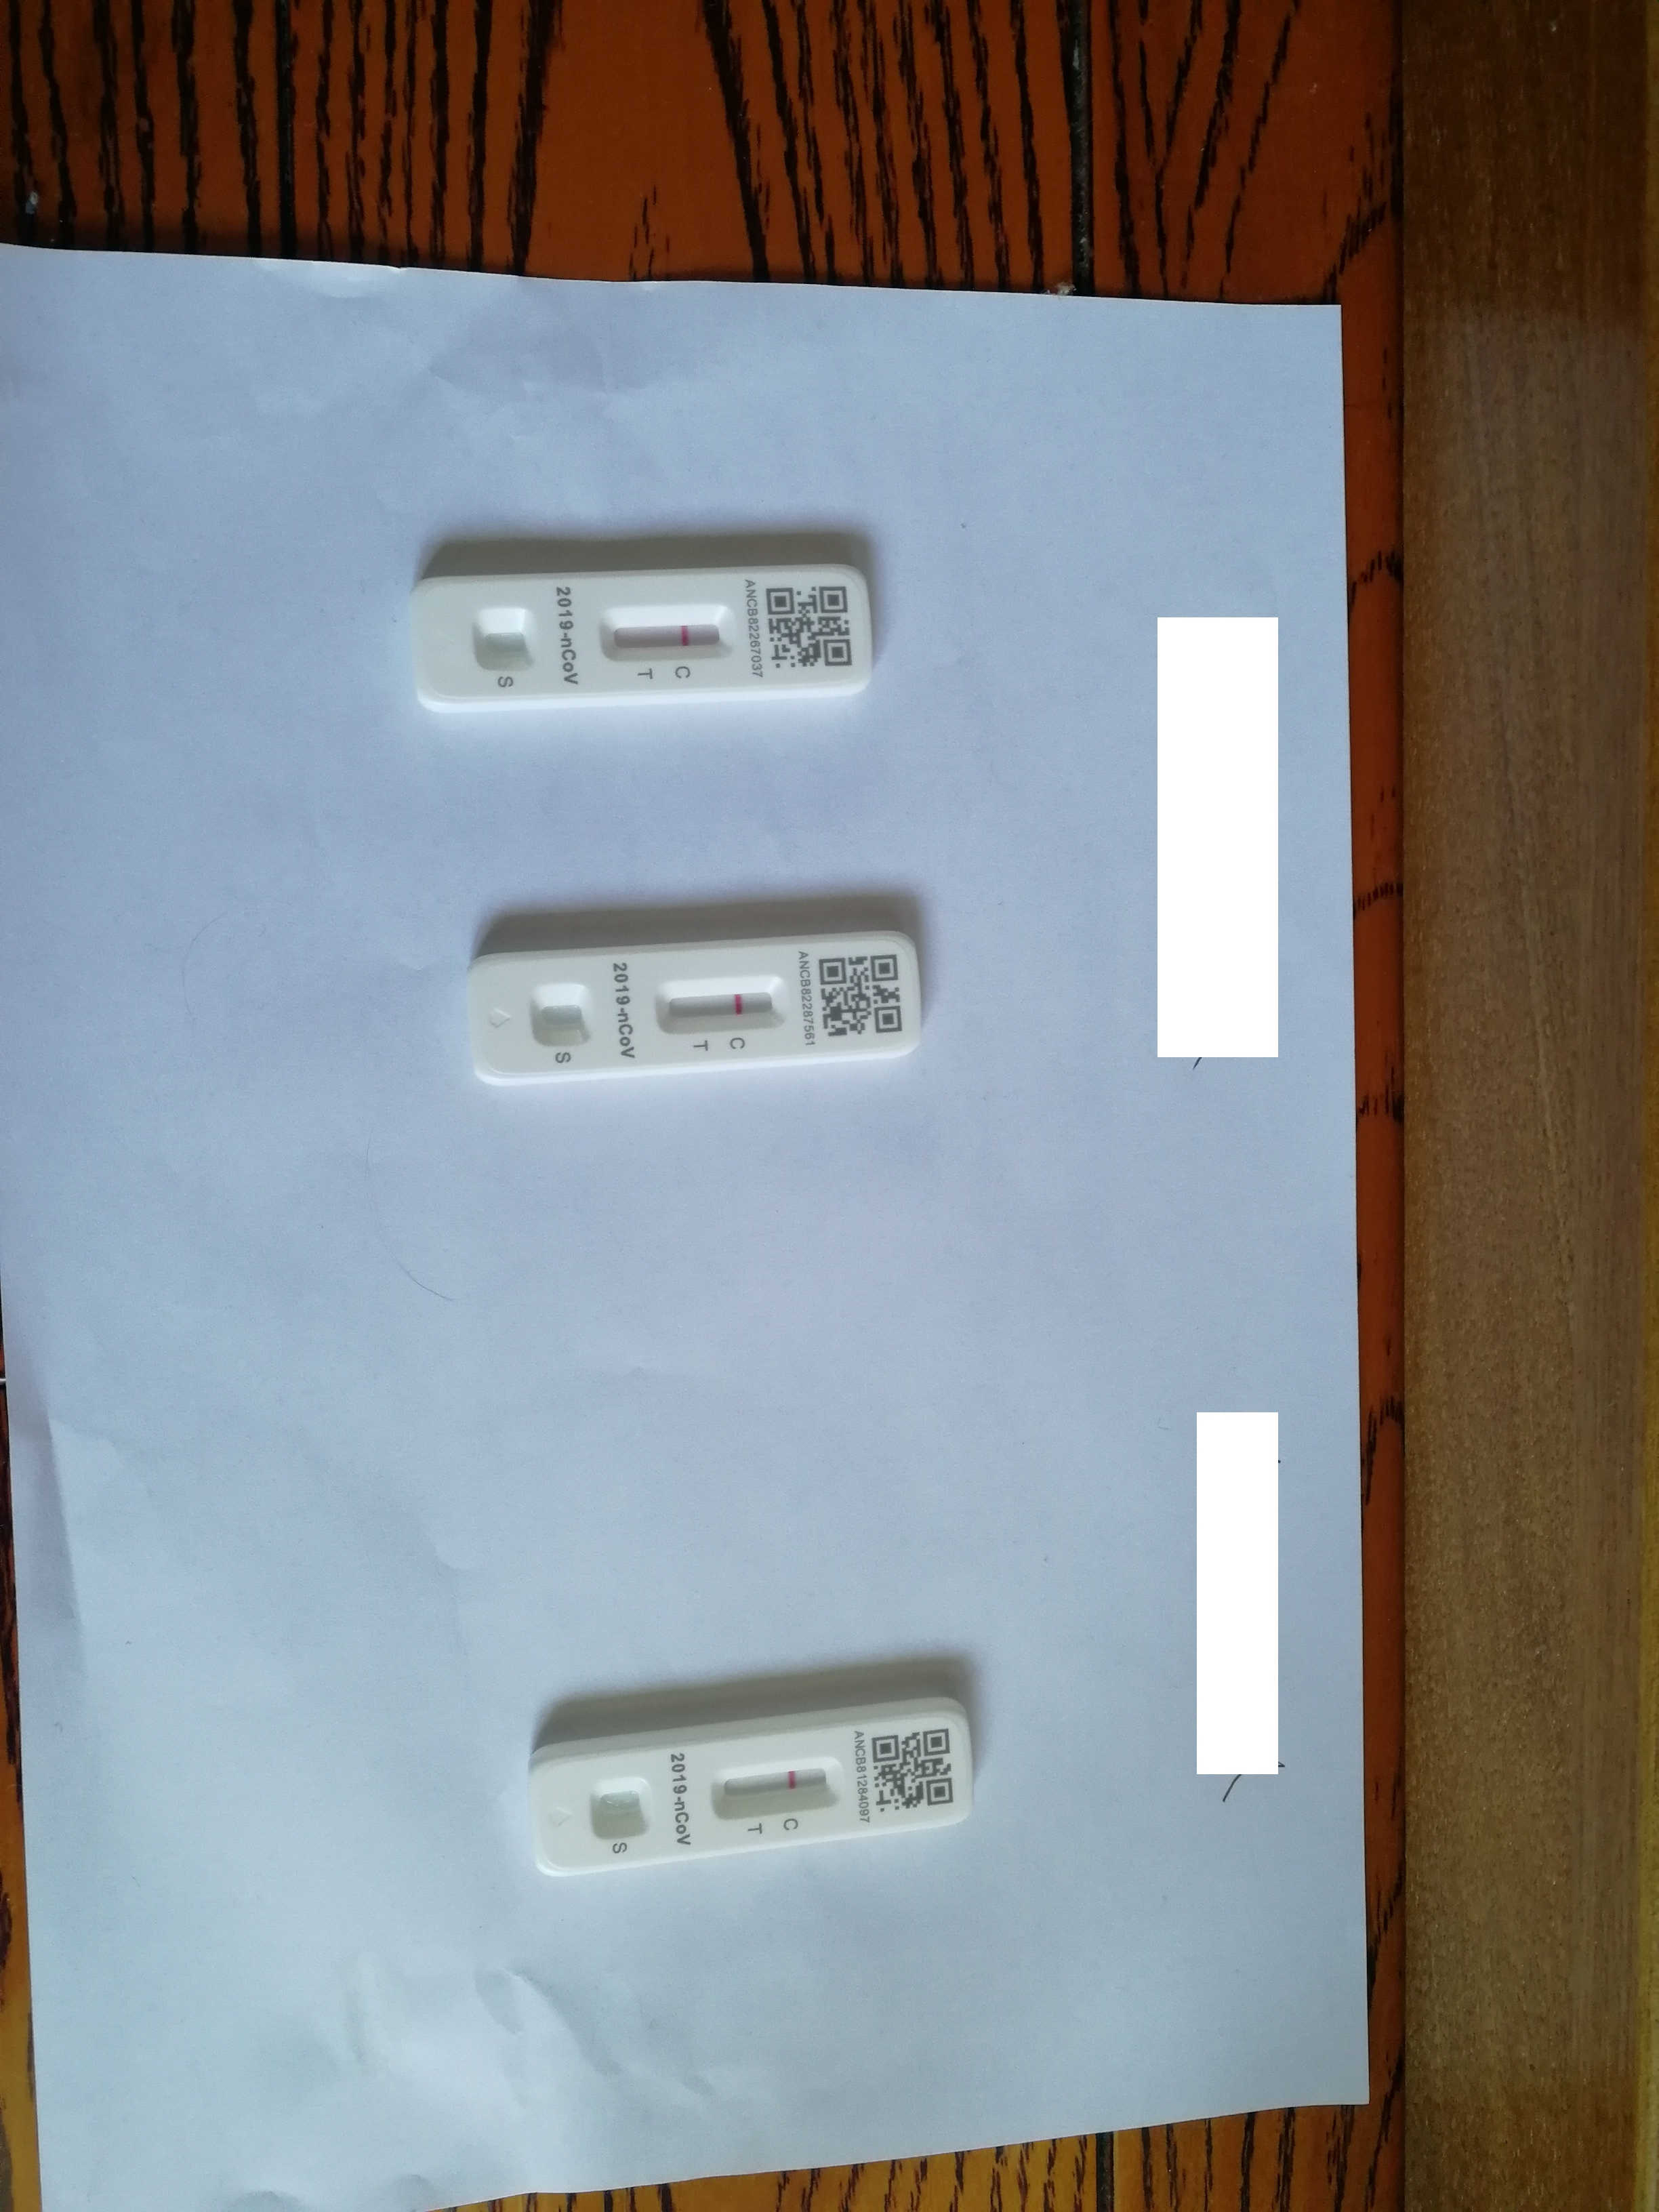negative: (702, 1775, 840, 1817), (599, 615, 728, 658), (662, 989, 779, 1031)
